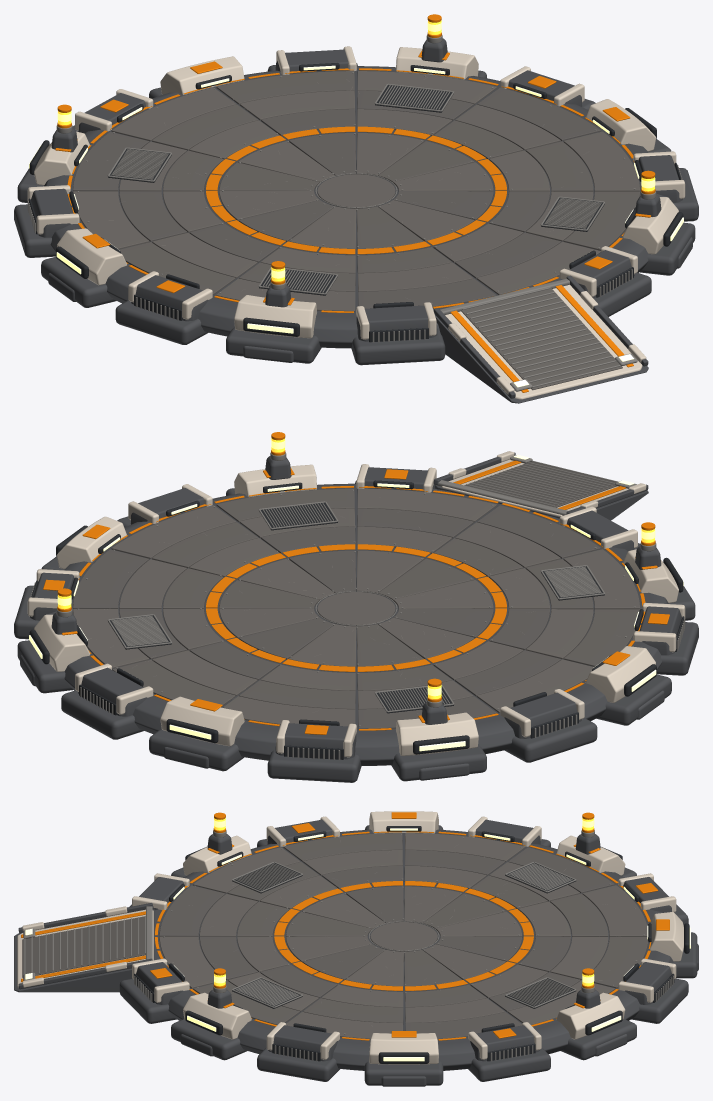
Rendered from landing-pad-reference-module.glb.
3 views of the same model, one above another, from view 1: azimuth 30°, elevation 25°; view 2: azimuth 150°, elevation 25°; view 3: azimuth 270°, elevation 25° (orthographic). The views are drawn at different scales.
Visible parts, largest first — view 1: Lower graphite landing-platform foundation, Ramp central dark anti-slip plate, Orange inner landing-guide ring, Ramp ivory sloped deck, Outer deck plate 03-2, Outer deck plate 00-2, Outer deck plate 02-2, Outer deck plate 11-2, Outer deck plate 09-2, Outer deck plate 05-2, Outer deck plate 06-2, Outer deck plate 08-2 (+73 smaller); view 2: Lower graphite landing-platform foundation, Orange inner landing-guide ring, Ramp central dark anti-slip plate, Outer deck plate 09-2, Outer deck plate 11-2, Outer deck plate 08-2, Outer deck plate 00-2, Outer deck plate 06-2, Outer deck plate 05-2, Outer deck plate 07-2, Outer deck plate 01-2, Outer deck plate 10-2 (+75 smaller); view 3: Lower graphite landing-platform foundation, Ramp central dark anti-slip plate, Orange inner landing-guide ring, Outer deck plate 05-2, Outer deck plate 06-2, Outer deck plate 03-2, Outer deck plate 08-2, Outer deck plate 09-2, Ramp graphite structural wedge, Outer deck plate 02-2, Outer deck plate 07-2, Outer deck plate 04-2 (+76 smaller).
Boxes of the visible parts, x1,y1,x2,y2 form: Lower graphite landing-platform foundation: (44,66,666,348); Ramp central dark anti-slip plate: (461,288,622,390); Orange inner landing-guide ring: (206,126,506,254); Ramp ivory sloped deck: (445,284,642,399); Outer deck plate 03-2: (111,87,236,141); Outer deck plate 00-2: (477,87,600,140); Outer deck plate 02-2: (216,71,354,104); Outer deck plate 11-2: (563,131,639,191); Outer deck plate 09-2: (476,241,600,294); Outer deck plate 05-2: (73,191,149,249); Outer deck plate 06-2: (119,242,235,294); Outer deck plate 08-2: (358,278,496,308); Lower graphite landing-platform foundation: (46,483,668,765); Orange inner landing-guide ring: (206,544,506,671); Ramp central dark anti-slip plate: (464,461,617,507); Outer deck plate 09-2: (357,488,496,522); Outer deck plate 11-2: (111,505,236,558); Outer deck plate 08-2: (477,505,600,558); Outer deck plate 00-2: (73,549,149,608); Outer deck plate 06-2: (563,609,639,666); Outer deck plate 05-2: (476,659,593,713); Outer deck plate 07-2: (563,549,639,609); Outer deck plate 01-2: (73,609,149,668); Outer deck plate 10-2: (216,488,354,521); Lower graphite landing-platform foundation: (155,829,673,1070); Ramp central dark anti-slip plate: (22,916,145,977); Orange inner landing-guide ring: (274,881,533,990); Outer deck plate 05-2: (405,833,525,861); Outer deck plate 06-2: (283,833,402,861); Outer deck plate 03-2: (582,885,647,936); Outer deck plate 08-2: (159,885,225,936); Outer deck plate 09-2: (159,936,214,988); Ramp graphite structural wedge: (14,909,154,992); Outer deck plate 02-2: (594,937,648,988); Outer deck plate 07-2: (193,847,300,893); Outer deck plate 04-2: (508,847,614,893).
Bounding box in the file's own units: 14.56 × 1.93 × 16.91.
